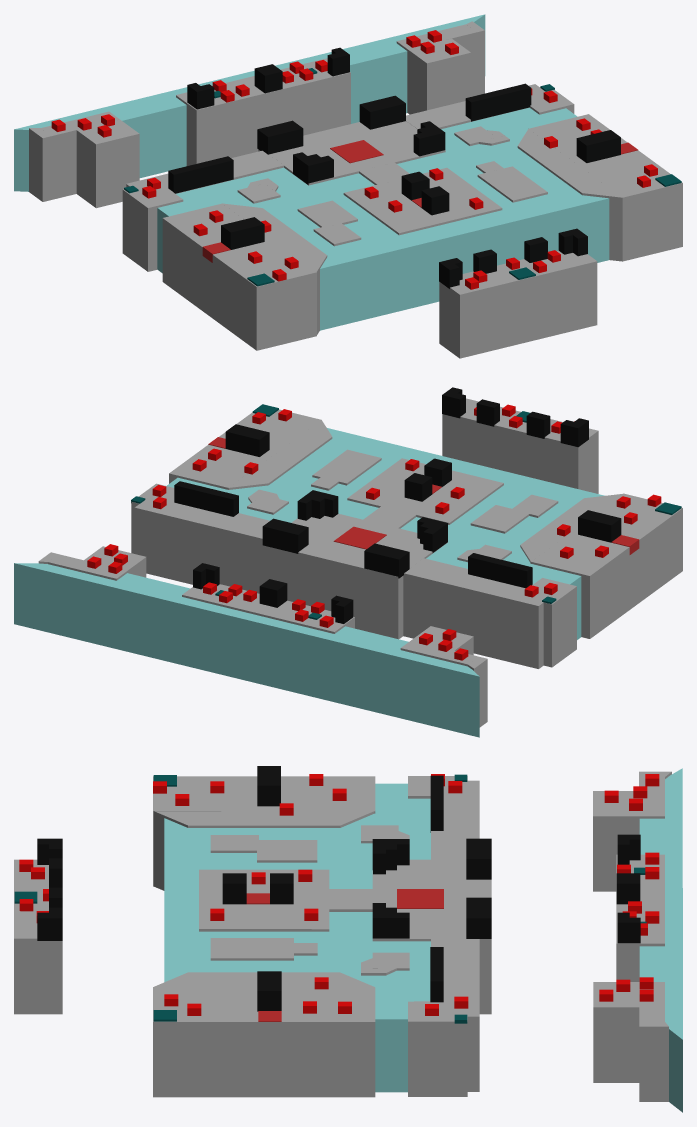
File: Room1_FRScale.fbx
3 renders of one model, top to bottom at view 1: azimuth 30°, elevation 25°; view 2: azimuth 150°, elevation 25°; view 3: azimuth 270°, elevation 25°, orthographic. The views are drawn at different scales.
Parts seen in each view (by area): view 1: Ice85, Floor214, Floor209, Floor226, Floor210, Ice87, Floor230, Floor212, Floor208, Floor228, Ice86, Floor211 (+25 smaller); view 2: Ice86, Ice85, Floor208, Floor233, Floor214, Floor234, Floor209, Floor212, Floor210, Floor237, Floor211, Floor226 (+24 smaller); view 3: Ice85, Floor210, Floor208, Floor214, Floor212, Ice86, Floor209, Floor235, Floor228, Floor215, Floor234, Floor230 (+26 smaller).
Part boxes in pixels (left/top/right/bottom): Ice85: left=157, top=107, right=609, bottom=330; Floor214: left=162, top=203, right=316, bottom=350; Floor209: left=439, top=250, right=597, bottom=358; Floor226: left=176, top=58, right=350, bottom=165; Floor210: left=528, top=114, right=682, bottom=261; Ice87: left=111, top=43, right=407, bottom=177; Floor230: left=76, top=119, right=139, bottom=208; Floor212: left=343, top=167, right=502, bottom=235; Floor208: left=258, top=121, right=445, bottom=185; Floor228: left=407, top=38, right=470, bottom=114; Ice86: left=14, top=14, right=485, bottom=191; Floor211: left=517, top=129, right=622, bottom=261; Ice86: left=14, top=563, right=479, bottom=737; Ice85: left=167, top=428, right=604, bottom=639; Floor208: left=262, top=513, right=447, bottom=639; Floor233: left=403, top=558, right=558, bottom=668; Floor214: left=530, top=493, right=682, bottom=638; Floor234: left=134, top=494, right=269, bottom=593; Floor209: left=442, top=398, right=598, bottom=493; Floor212: left=347, top=458, right=503, bottom=524; Floor210: left=169, top=409, right=321, bottom=489; Floor237: left=543, top=584, right=576, bottom=667; Floor211: left=228, top=420, right=332, bottom=489; Floor226: left=182, top=584, right=354, bottom=633; Ice85: left=164, top=783, right=430, bottom=1092; Floor210: left=153, top=987, right=375, bottom=1097; Floor208: left=372, top=859, right=491, bottom=1014; Floor214: left=153, top=776, right=375, bottom=886; Floor212: left=199, top=869, right=329, bottom=931; Ice86: left=664, top=768, right=682, bottom=1112; Floor209: left=14, top=859, right=62, bottom=1014; Floor235: left=408, top=1016, right=467, bottom=1096; Floor228: left=593, top=982, right=639, bottom=1082; Floor215: left=154, top=810, right=374, bottom=890; Floor234: left=431, top=939, right=479, bottom=1091; Floor230: left=593, top=791, right=640, bottom=891.
Size of the model in its own units: 83.09 by 13.72 by 86.44.
